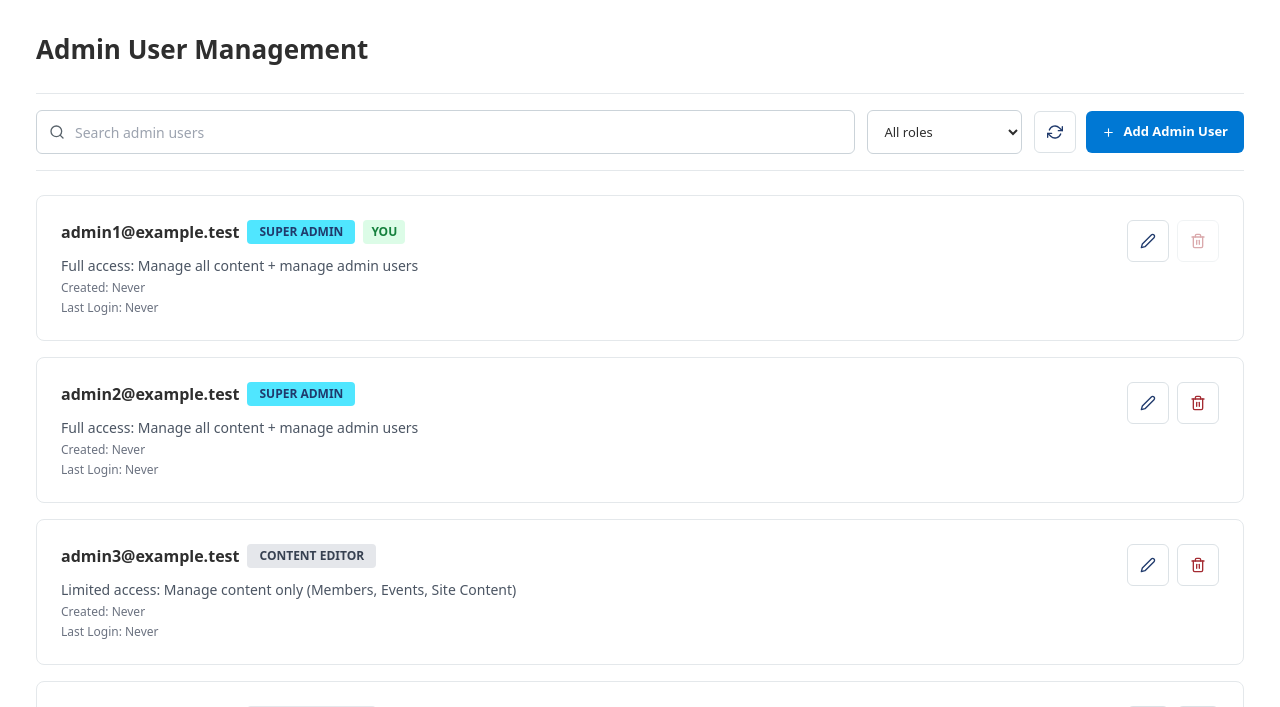
protects own deletion and uses the full list for last-admin checks
Expected: the button named "Delete admin1@example.test" is disabled, [1177,220,1219,262]
Type "admin2@" into the search field.
click(465, 132); type("admin2@")  # box [75,111,854,153]
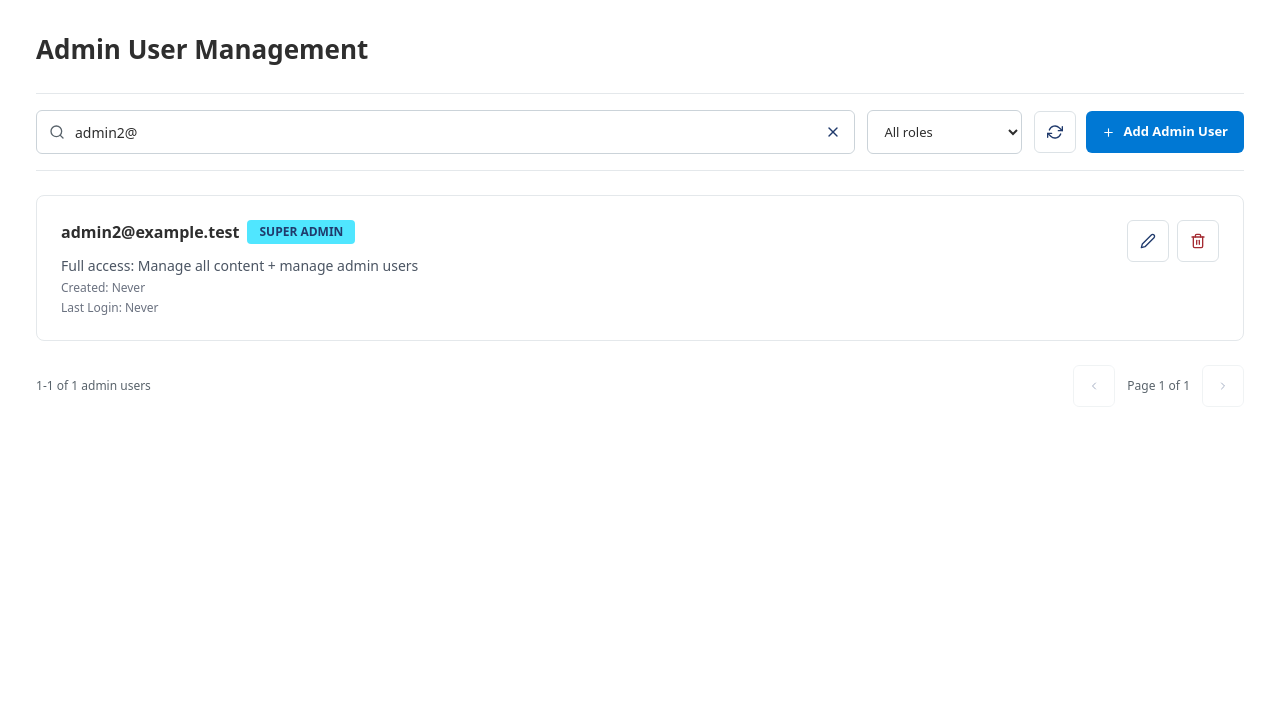
Expected: the button named "Delete admin2@example.test" is enabled, [1177,220,1219,262]
Click the button named "Edit admin2@example.test".
click(1148, 241)  # box [1127,220,1169,262]
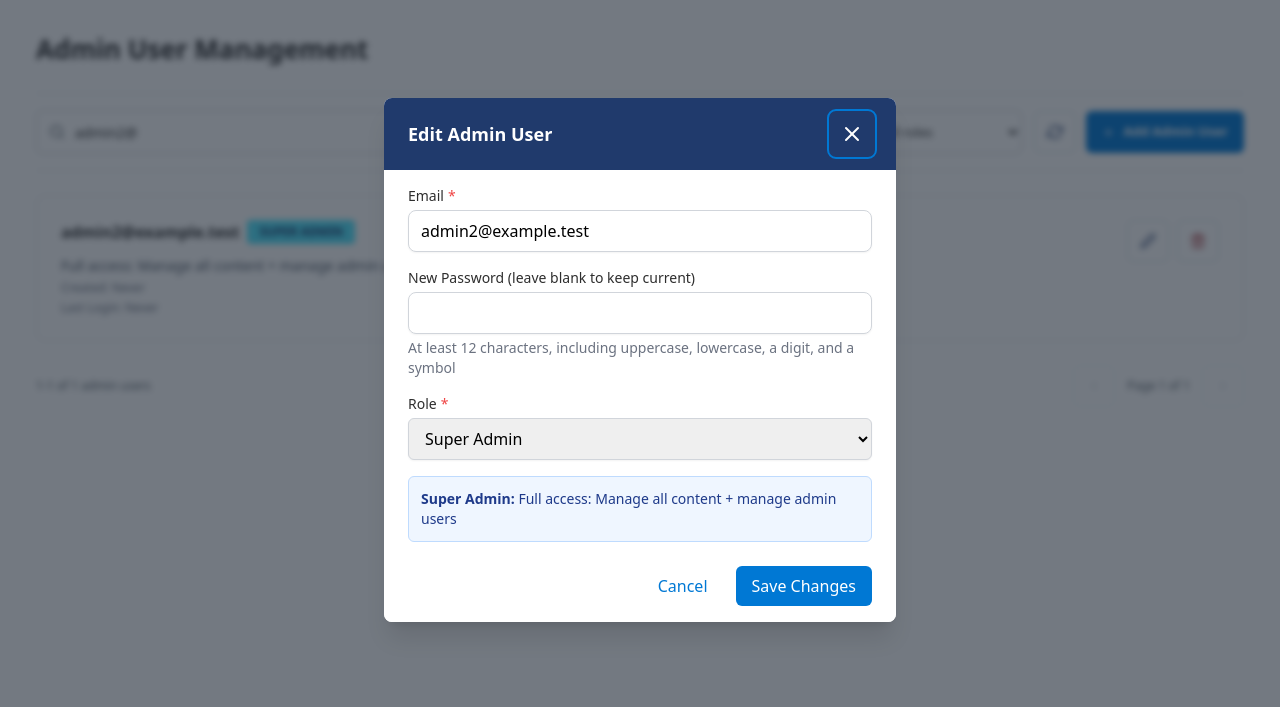
Expected: the dropdown labelled "Role*" is enabled, [408,418,872,460]
